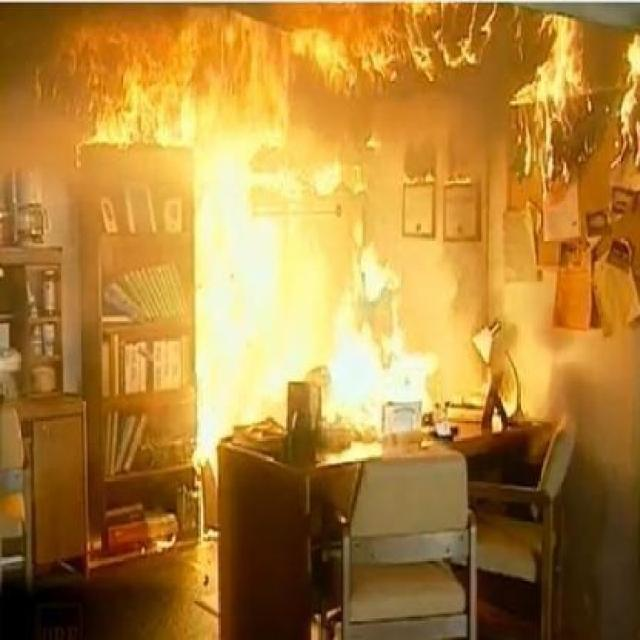fire: (15, 7, 640, 396)
